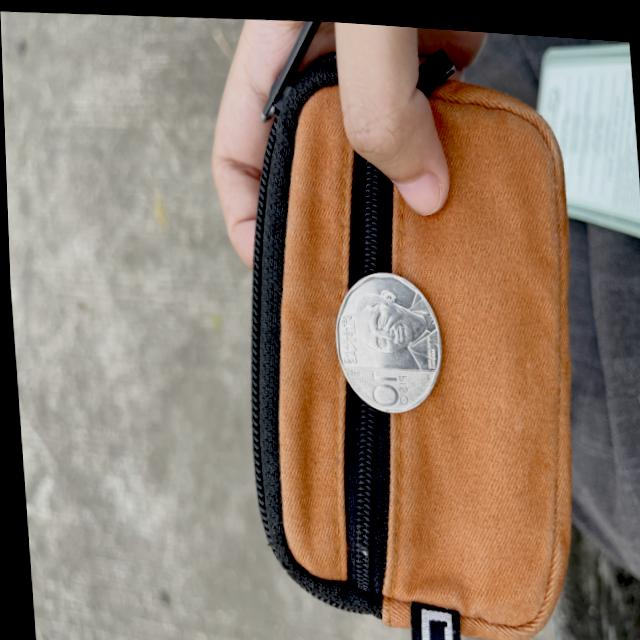10_New_Front: (362, 360, 409, 407)
